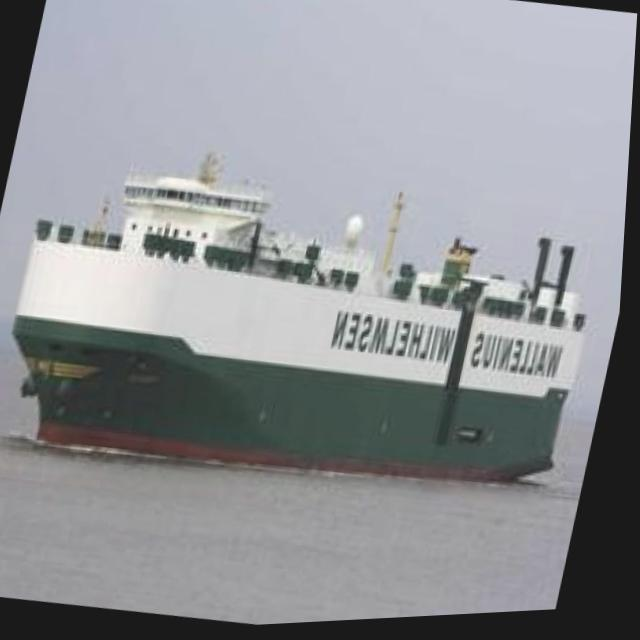ship2: (13, 161, 595, 492)
